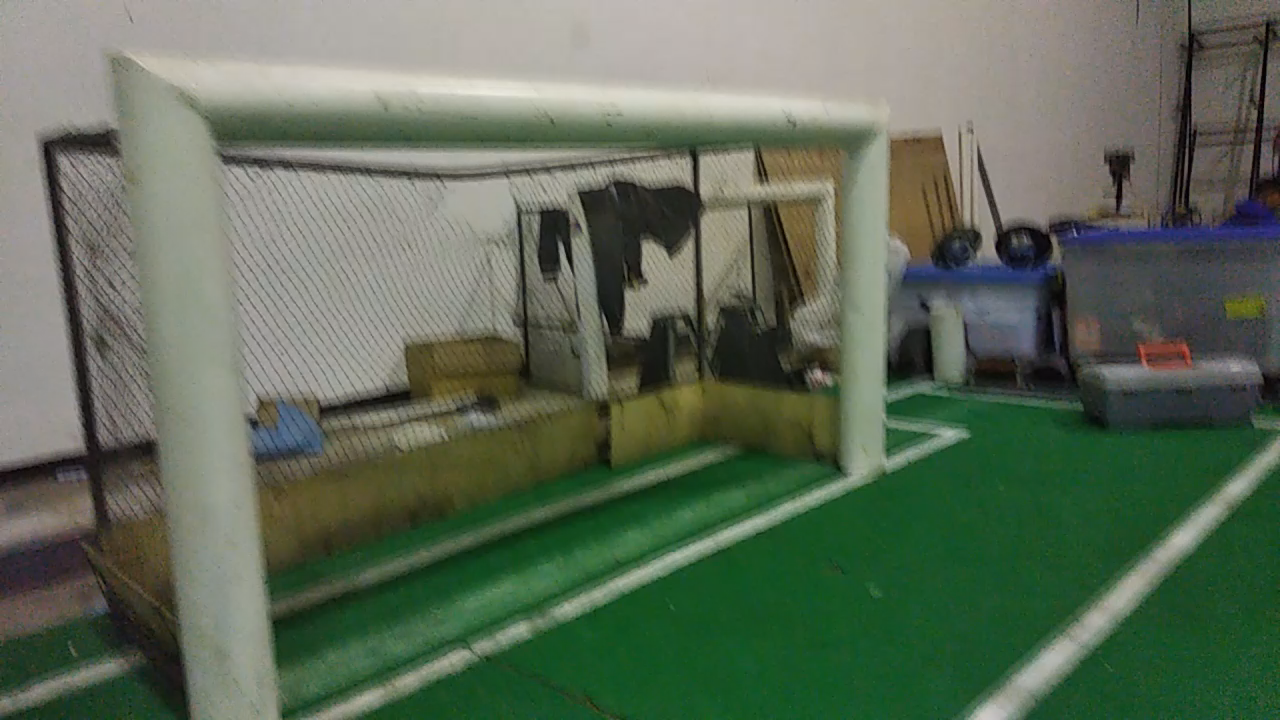gawang: (90, 31, 911, 719)
